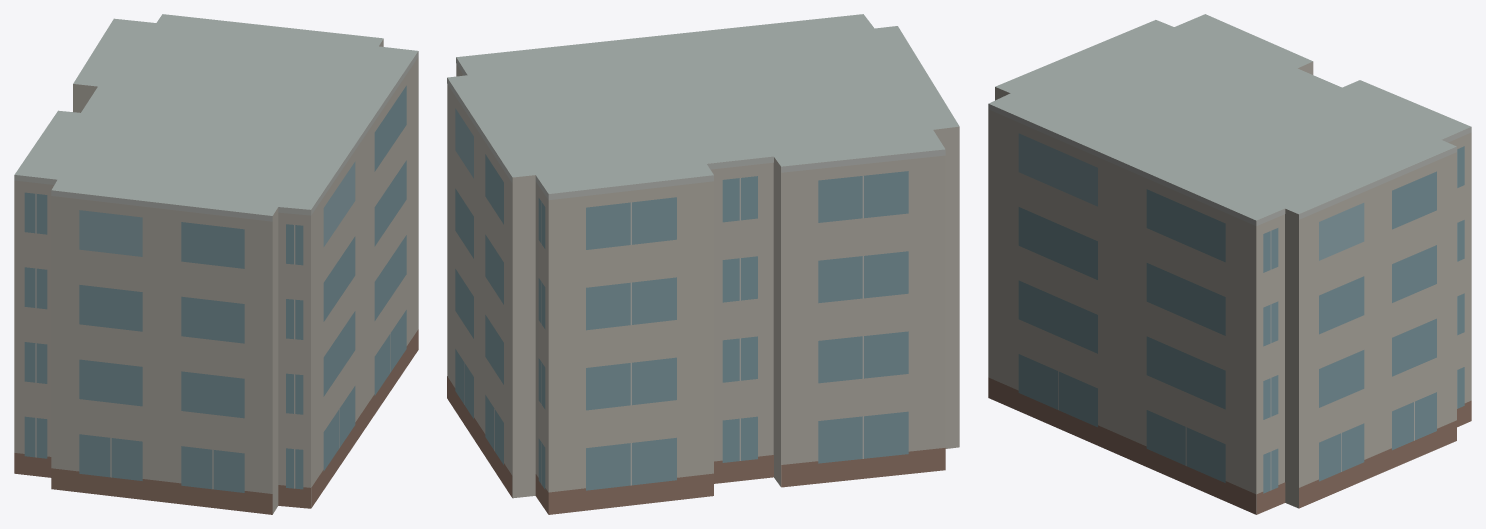
The model's file is survey-upis-32744157.glb.
3 renders of one model, left to right at view 1: azimuth 30°, elevation 25°; view 2: azimuth 150°, elevation 25°; view 3: azimuth 270°, elevation 25°, orthographic. The views are drawn at different scales.
Parts seen in each view (by area): view 1: survey-upis-32744157.tmp; view 2: survey-upis-32744157.tmp; view 3: survey-upis-32744157.tmp.
Part boxes in pixels (box(x1,y1,x2,y2)): survey-upis-32744157.tmp: box(14, 14, 418, 514); survey-upis-32744157.tmp: box(447, 14, 959, 514); survey-upis-32744157.tmp: box(988, 14, 1471, 514).
Size of the model in its own units: 19.28 by 12.8 by 19.05.
